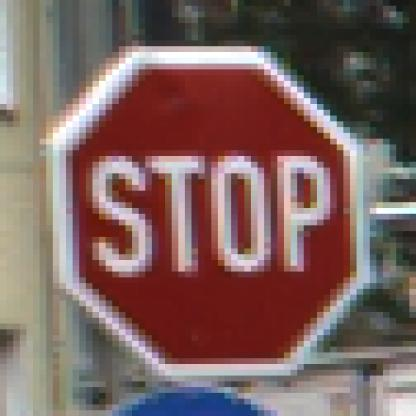stop: (42, 43, 386, 383)
